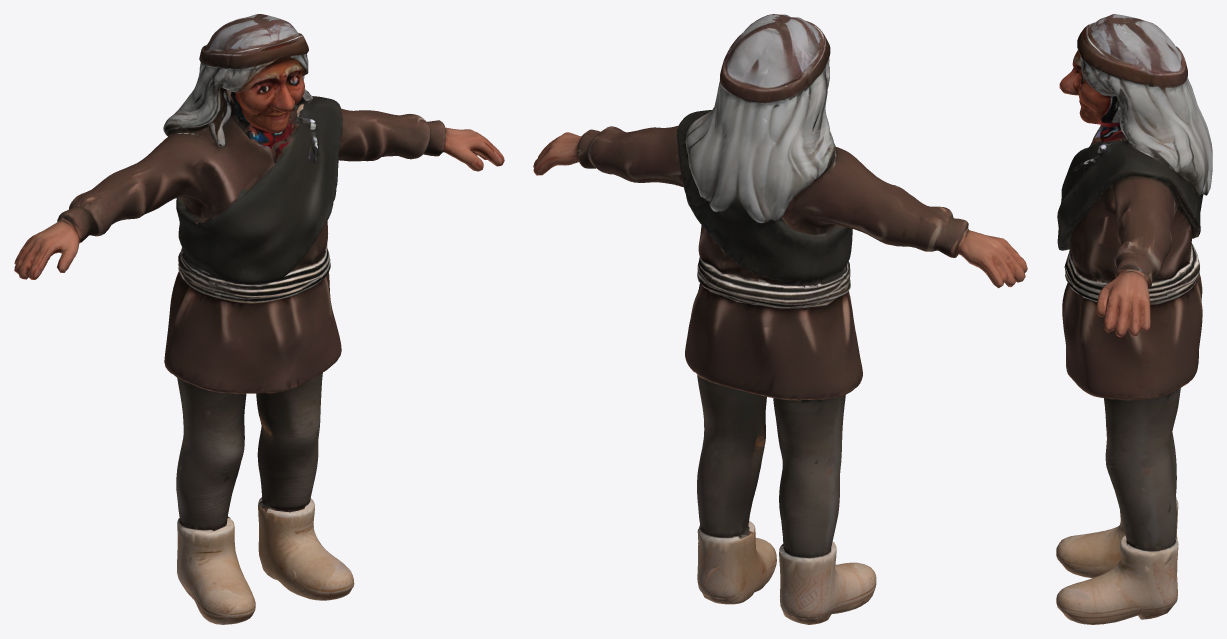
The model's file is poblador_1.glb.
3 views of the same model, side by side, from view 1: azimuth 30°, elevation 25°; view 2: azimuth 150°, elevation 25°; view 3: azimuth 270°, elevation 25° (orthographic).
Parts seen in each view (by area): view 1: poblador_1; view 2: poblador_1; view 3: poblador_1.
Part boxes in pixels (x1,y1,x2,y2): poblador_1: (14, 14, 504, 624); poblador_1: (533, 14, 1027, 624); poblador_1: (1056, 14, 1212, 624).
Bounding box in the file's own units: 1.34 × 1.52 × 0.3764.
Materials: 1 (1 with a texture image).
